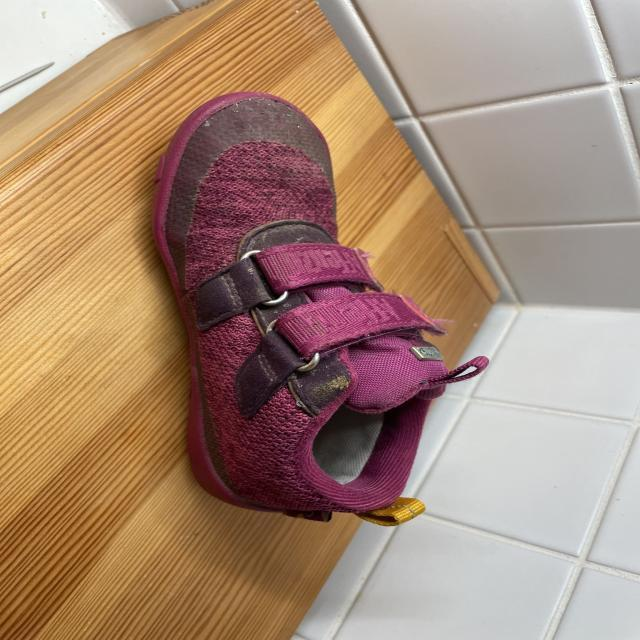shoe: (148, 89, 490, 528)
